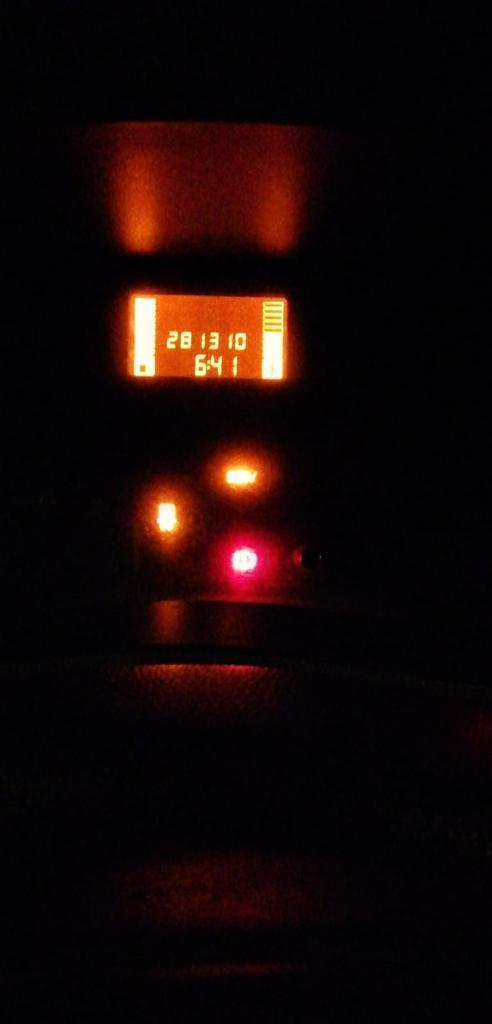0: (234, 330, 247, 351)
1: (230, 354, 238, 376), (198, 331, 207, 349), (226, 331, 233, 351)
2: (166, 329, 178, 349)
3: (208, 329, 220, 350)
4: (210, 354, 221, 377)
6: (192, 352, 206, 377)
8: (178, 329, 193, 350)
X: (206, 358, 210, 371)
odometer: (122, 290, 290, 383)
